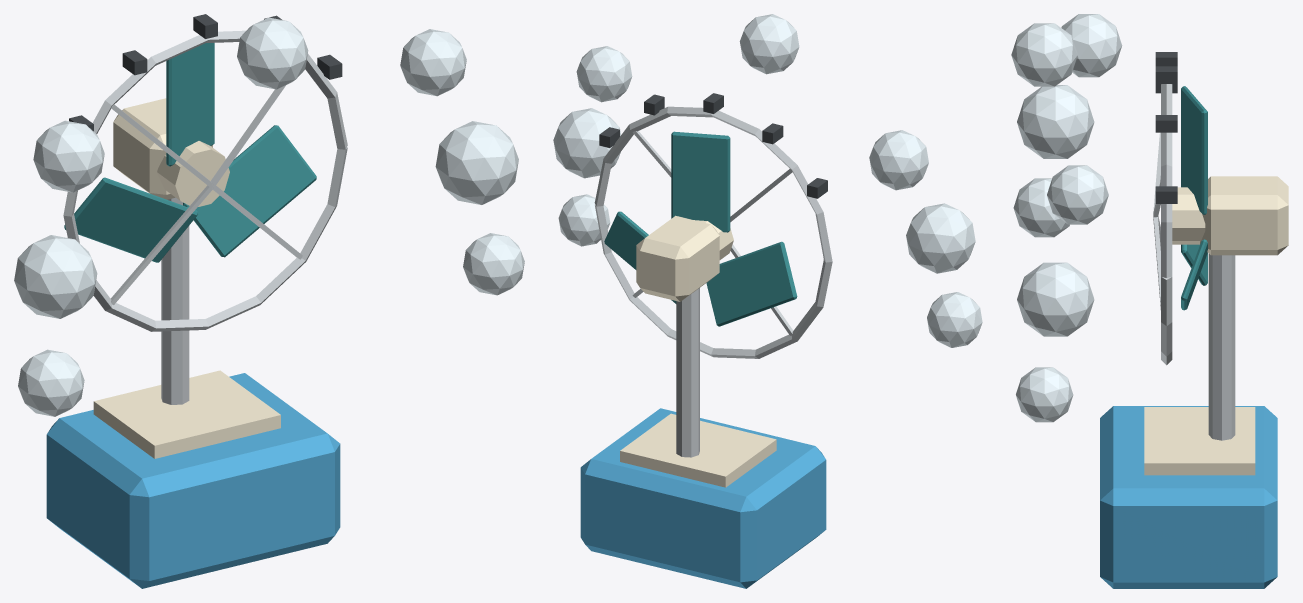
Rendered from misting-fan.glb.
The picture shows the model from 3 angles, left to right: view 1: azimuth 30°, elevation 25°; view 2: azimuth 150°, elevation 25°; view 3: azimuth 270°, elevation 25°; orthographic projection. The views are drawn at different scales.
Parts seen in each view (by area): view 1: misting-fan; view 2: misting-fan; view 3: misting-fan.
Part boxes in pixels (<box>): misting-fan: <box>14,14,524,588</box>; misting-fan: <box>553,14,982,588</box>; misting-fan: <box>1011,14,1288,588</box>.
Bounding box in the file's own units: 0.4714 × 0.52 × 0.25.
